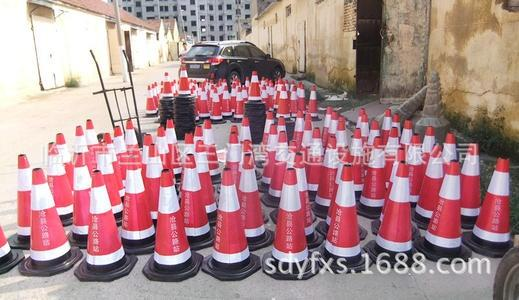cone_barrel: (147, 166, 195, 272), (81, 168, 127, 275), (25, 166, 72, 269), (267, 164, 310, 272), (208, 166, 248, 277), (323, 161, 363, 267), (423, 159, 463, 259), (471, 155, 513, 250), (374, 161, 413, 260), (120, 154, 154, 248), (174, 152, 209, 243), (237, 152, 270, 243), (416, 140, 445, 219), (45, 140, 72, 217), (360, 134, 386, 212), (68, 149, 89, 241), (459, 140, 481, 224), (13, 151, 33, 241), (158, 70, 173, 102), (246, 69, 260, 101), (274, 84, 288, 116), (143, 84, 157, 115), (176, 64, 188, 96), (219, 84, 231, 116), (196, 86, 208, 117), (210, 88, 221, 121), (233, 86, 244, 117), (306, 85, 317, 115), (295, 83, 305, 111)
